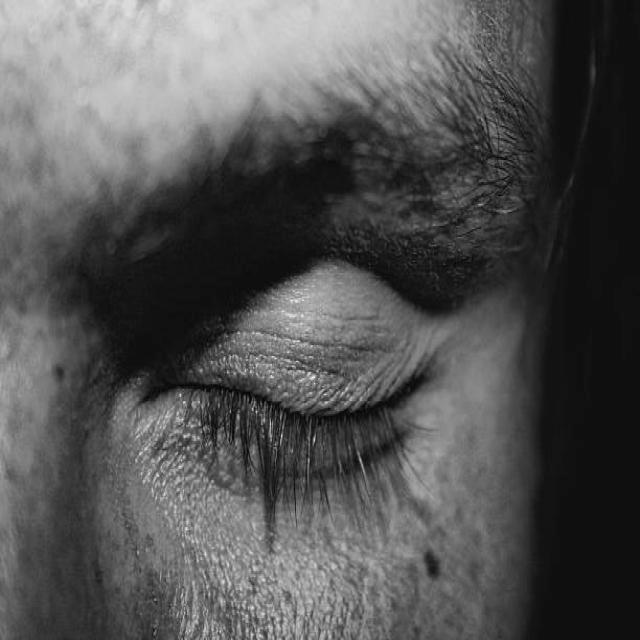real: (60, 66, 522, 534)
